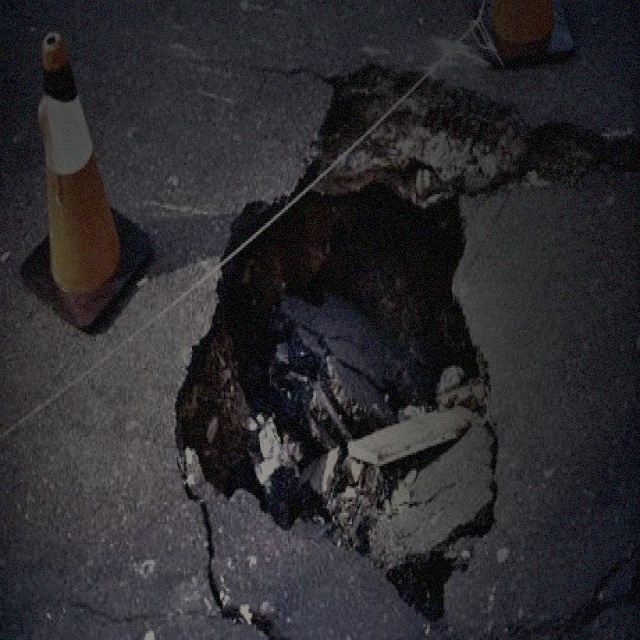pothole: (177, 181, 498, 608), (310, 40, 515, 201)
